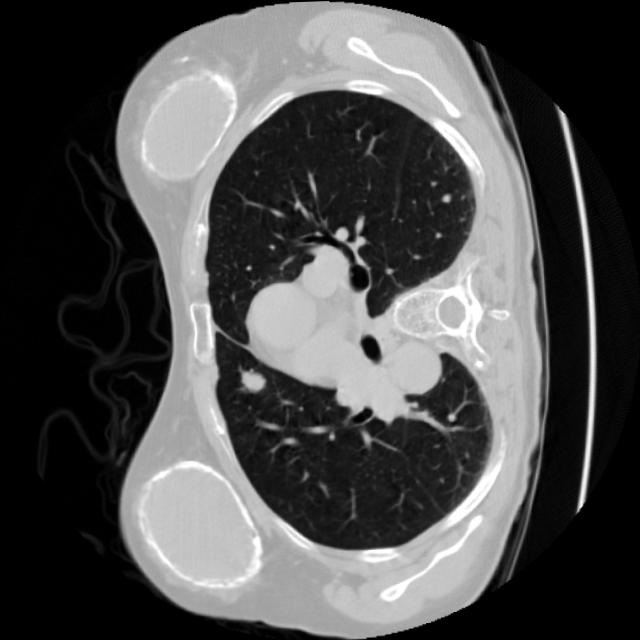nodule: (224, 350, 284, 410)
